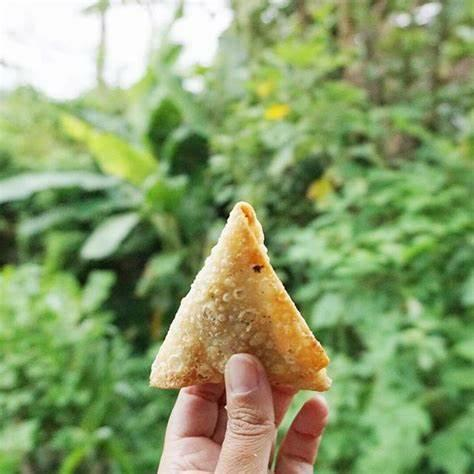Samosa: (148, 200, 330, 389)
